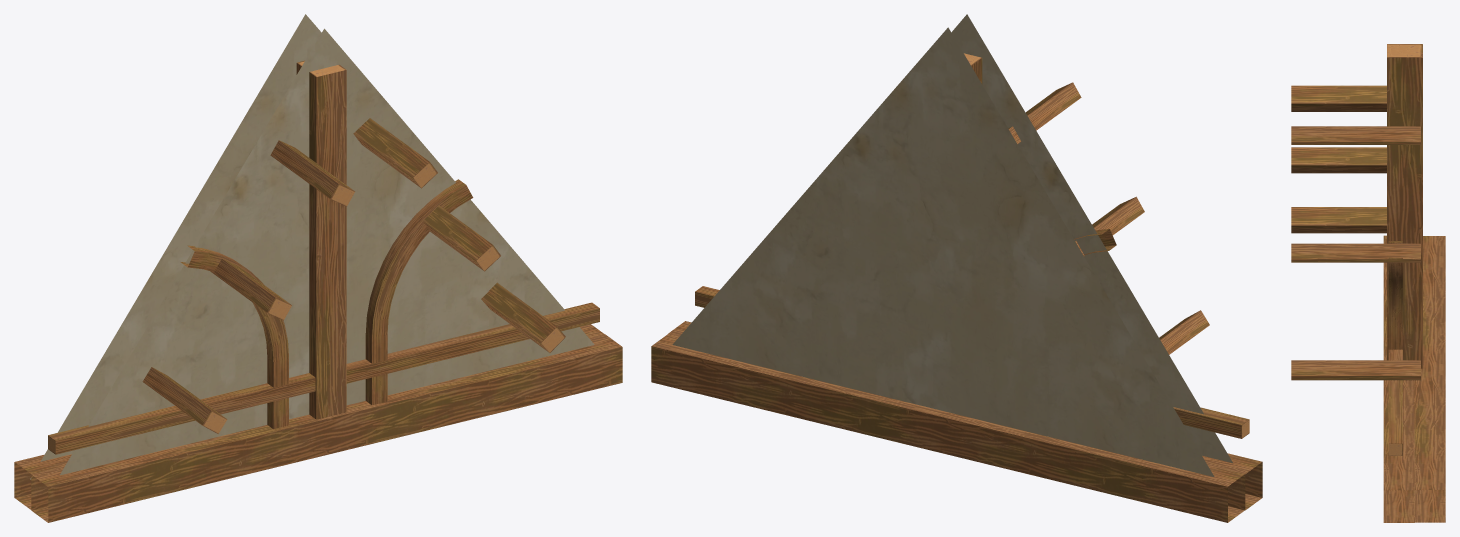
File: Roof_Front_Brick4.glb
3 renders of one model, left to right at view 1: azimuth 30°, elevation 25°; view 2: azimuth 150°, elevation 25°; view 3: azimuth 270°, elevation 25°, orthographic. The views are drawn at different scales.
Visible parts, largest first — view 1: Roof_Front_Brick4; view 2: Roof_Front_Brick4; view 3: Roof_Front_Brick4.
Boxes of the visible parts, left/top/right/bottom form: Roof_Front_Brick4: left=14, top=14, right=622, bottom=522; Roof_Front_Brick4: left=651, top=14, right=1262, bottom=522; Roof_Front_Brick4: left=1291, top=44, right=1445, bottom=522.
Size of the model in its own units: 4.4 by 3.07 by 1.13.
Materials: 2 (2 with a texture image).
